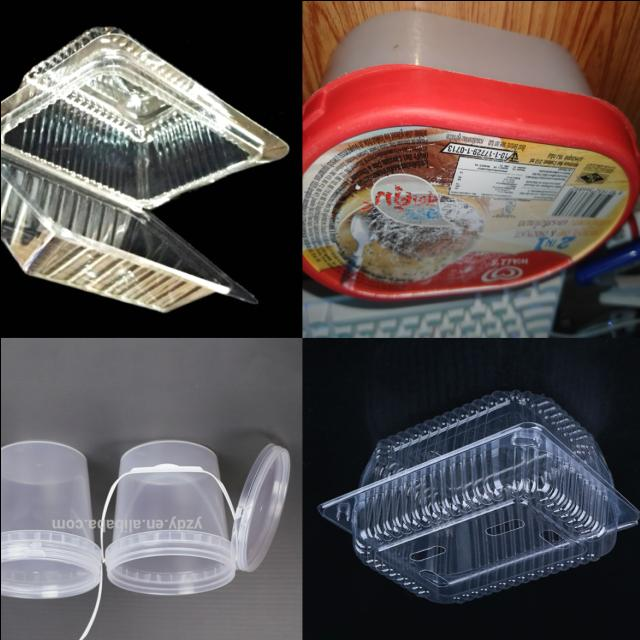plastik: (304, 11, 639, 299), (0, 26, 288, 311), (318, 391, 640, 602), (103, 439, 236, 594), (0, 441, 101, 598), (230, 443, 289, 570)
